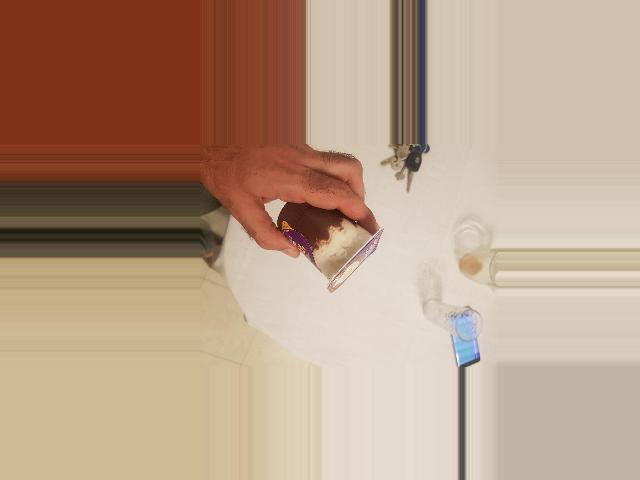milky: (318, 258, 413, 368)
